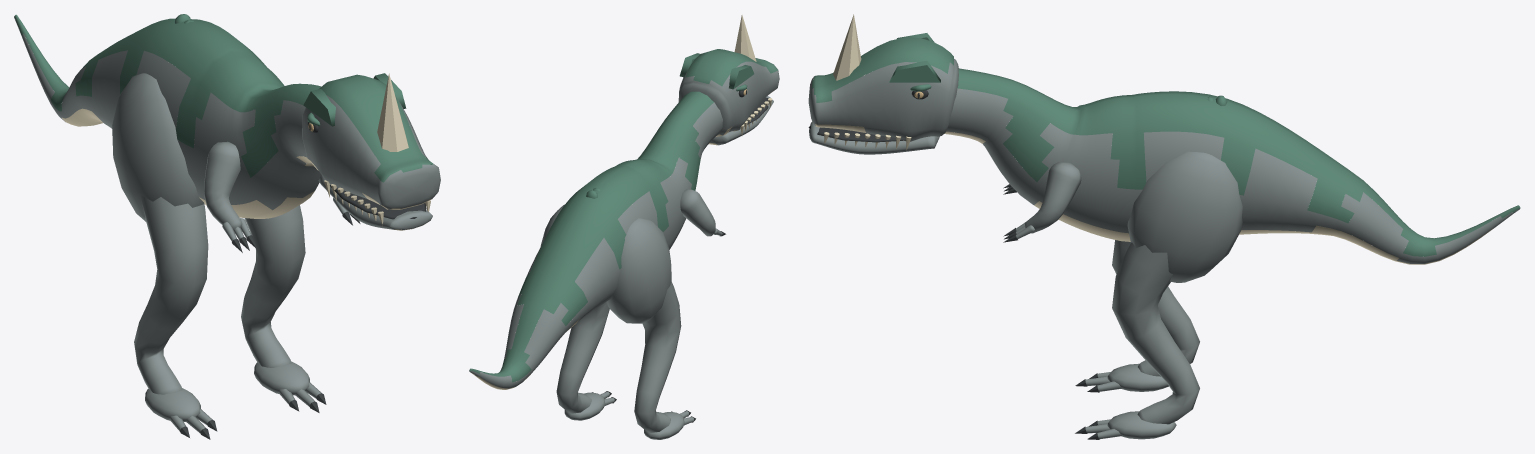
File: ceratosaurus.glb
3 views of the same model, side by side, from view 1: azimuth 30°, elevation 25°; view 2: azimuth 150°, elevation 25°; view 3: azimuth 270°, elevation 25° (orthographic). The views are drawn at different scales.
Visible parts, largest first — view 1: ceratosaurus; view 2: ceratosaurus; view 3: ceratosaurus.
Boxes of the visible parts, left/top/right/bottom form: ceratosaurus: left=14, top=14, right=440, bottom=439; ceratosaurus: left=469, top=15, right=779, bottom=439; ceratosaurus: left=808, top=14, right=1520, bottom=439.
Size of the model in its own units: 1.24 by 3.37 by 5.46.
